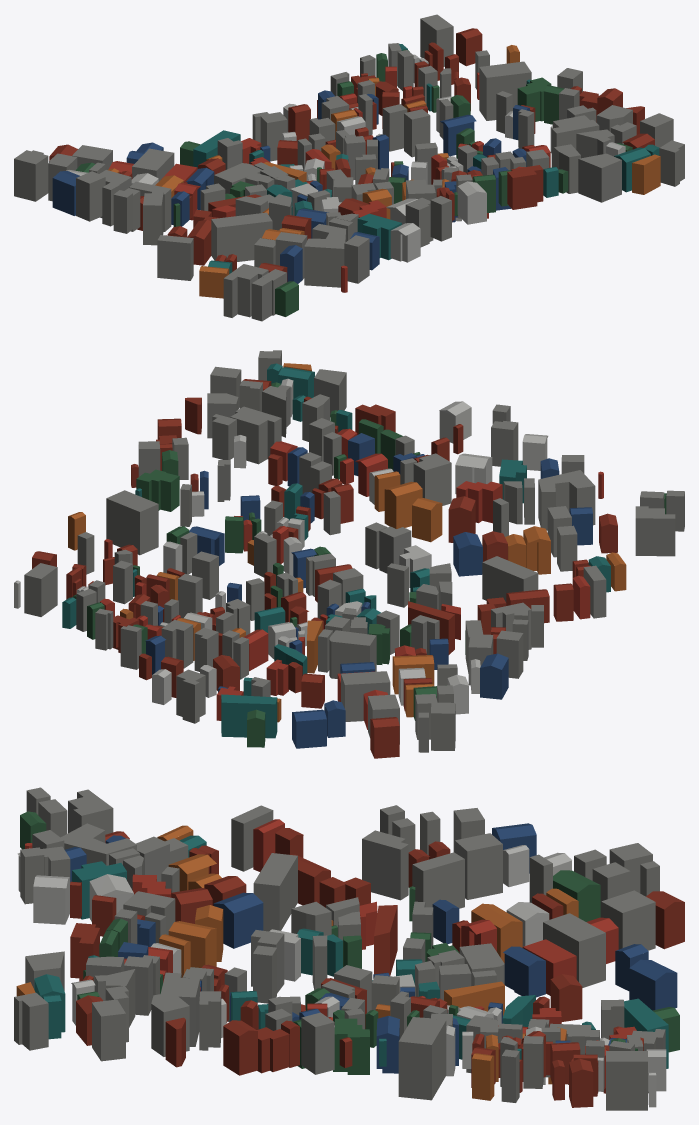
File: near-17-109440-59475.c5b3b249.glb
The picture shows the model from 3 angles, top to bottom: view 1: azimuth 30°, elevation 25°; view 2: azimuth 150°, elevation 25°; view 3: azimuth 270°, elevation 25°; orthographic projection. The views are drawn at different scales.
Size of the model in its own units: 309 by 99.27 by 307.
